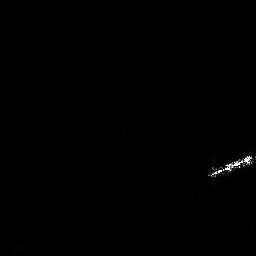ship: (203, 151, 256, 181)
